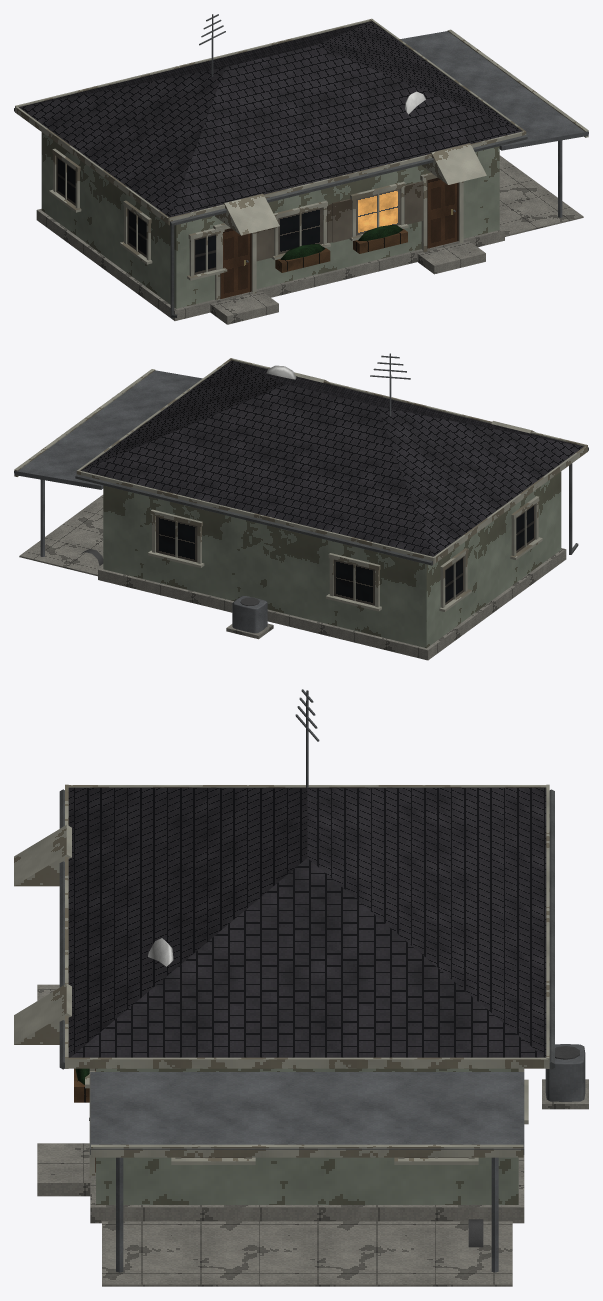
Rendered from town_duplex_b.glb.
3 views of the same model, one above another, from view 1: azimuth 30°, elevation 25°; view 2: azimuth 150°, elevation 25°; view 3: azimuth 270°, elevation 25° (orthographic). The views are drawn at different scales.
Parts seen in each view (by area): view 1: detail, shell-col; view 2: detail, shell-col; view 3: detail, shell-col.
Part boxes in pixels (x1,y1,x2,y2): detail: (14,14,588,318); shell-col: (36,132,562,324); detail: (14,353,588,639); shell-col: (40,471,566,660); detail: (14,689,588,1286); shell-col: (37,984,524,1272).
Size of what is drawn, in the model's own units: 13.23 by 7.11 by 9.8.
16 materials, 16 textured.
